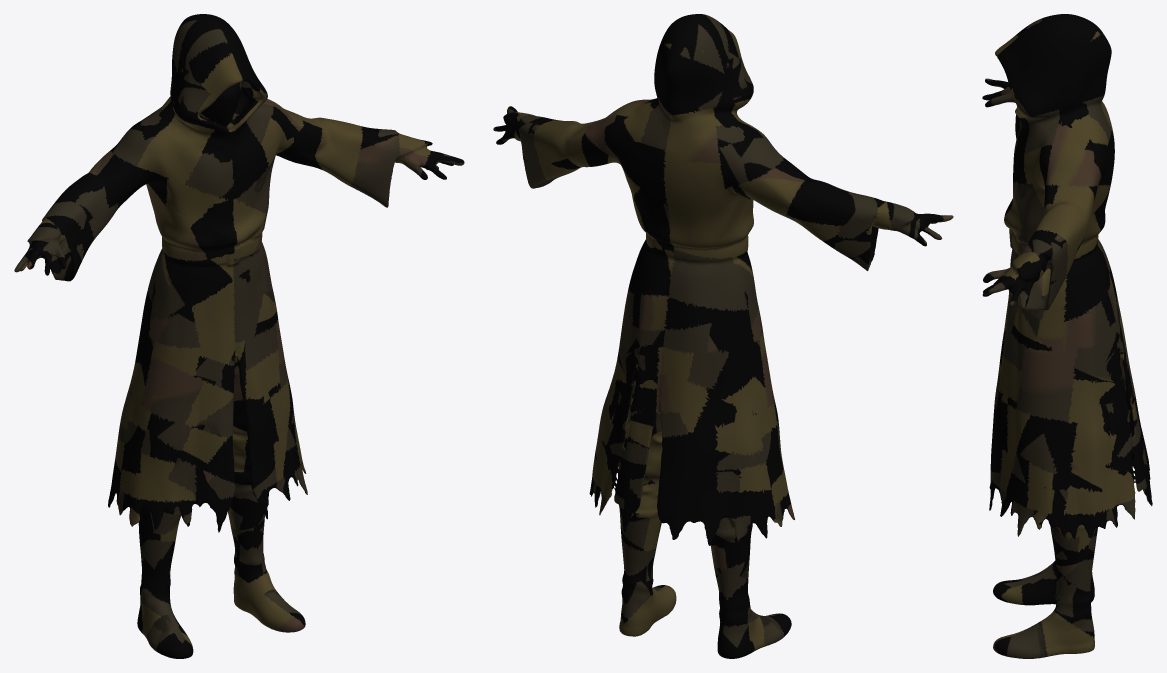
The model's file is shadowmage fbx.fbx.
3 renders of one model, left to right at view 1: azimuth 30°, elevation 25°; view 2: azimuth 150°, elevation 25°; view 3: azimuth 270°, elevation 25°, orthographic. The views are drawn at different scales.
Parts seen in each view (by area): view 1: Object_4, Object_6, Object_5; view 2: Object_5, Object_6, Object_4; view 3: Object_4, Object_5, Object_6.
Boxes of the visible parts, x1=… form: Object_4: x1=14, y1=14, x2=464, y2=658; Object_6: x1=28, y1=14, x2=414, y2=651; Object_5: x1=57, y1=14, x2=325, y2=637; Object_5: x1=534, y1=19, x2=846, y2=658; Object_6: x1=496, y1=14, x2=926, y2=647; Object_4: x1=493, y1=14, x2=953, y2=636; Object_4: x1=982, y1=17, x2=1111, y2=658; Object_5: x1=1032, y1=14, x2=1139, y2=656; Object_6: x1=1019, y1=14, x2=1152, y2=657.
Size of the model in its own units: 151 by 199 by 50.48.
